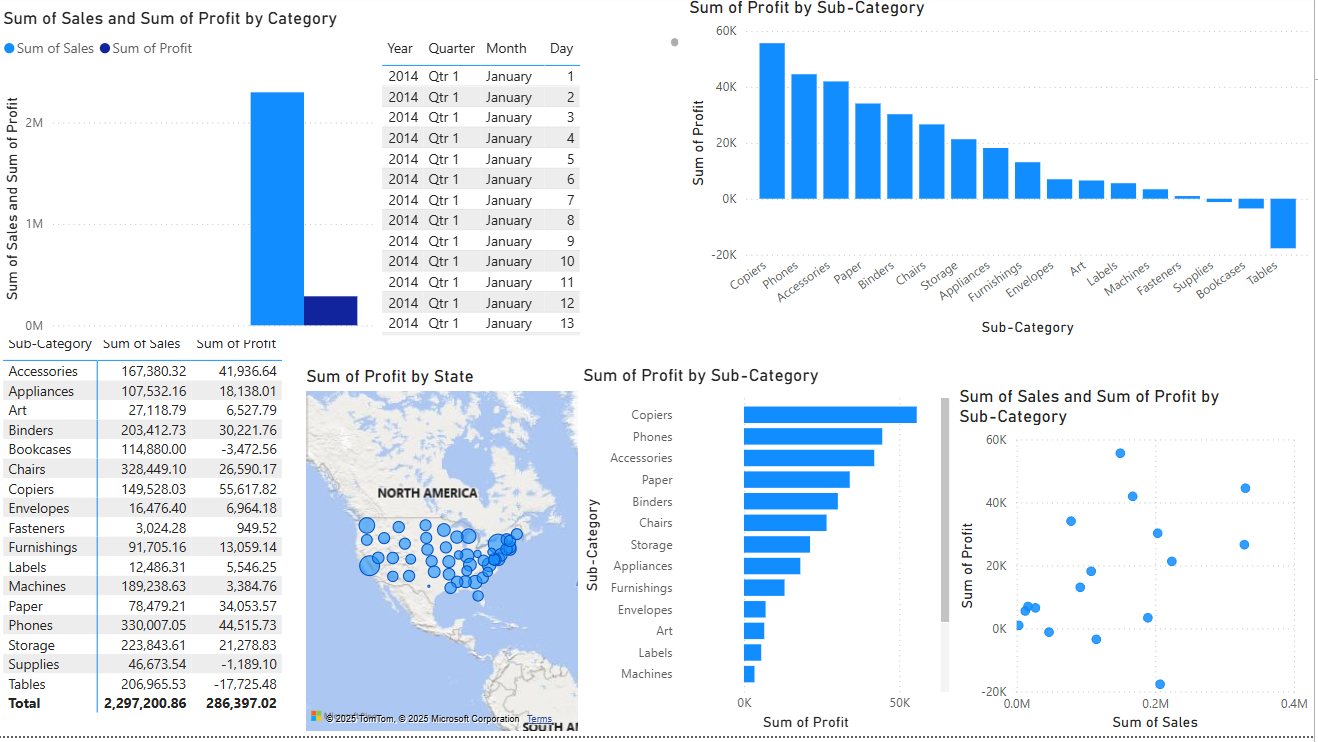

Layout of this report page (visuals, bound fields, positions):
{"tool":"powerbi","page":{"name":"Page 1","canvas":[1280,720],"ordinal":0},"visuals":[{"type":"map","fields":{"Category":["Orders.State"],"Size":["Sum(Orders.Profit)"]},"box":[278.2,359.9,290.8,359.9],"z":0},{"type":"clusteredColumnChart","fields":{"Y":["Sum(Orders.Profit)"],"Category":["Orders.Sub-Category"]},"box":[526.2,1,753.8,333.6],"z":1000},{"type":"scatterChart","fields":{"X":["Sum(Orders.Sales)"],"Y":["Sum(Orders.Profit)"],"Category":["Orders.Sub-Category"]},"box":[929.8,379.3,350.2,340.4],"z":2000},{"type":"pivotTable","fields":{"Values":["Sum(Orders.Sales)","Sum(Orders.Profit)"],"Rows":["Orders.Sub-Category"]},"box":[0,322.9,294.7,396.8],"z":3000},{"type":"lineClusteredColumnComboChart","title":"Sum of Sales and Sum of Profit  by Category","fields":{"Y":["Sum(Orders.Sales)","Sum(Orders.Profit)"]},"box":[0,0,552.5,322.9],"z":4000},{"type":"clusteredBarChart","fields":{"Category":["Orders.Sub-Category"],"Y":["Sum(Orders.Profit)"]},"box":[564.1,359.9,365.7,359.9],"z":4001}]}

Visuals, with their boxes in screenshot pixels (x1, y1, x2, y2), scaled from the page's 1280x720 canvas onto the 1318x742 screenshot:
map - Orders.State x Sum(Orders.Profit): x1=286 y1=371 x2=586 y2=741
clusteredColumnChart - Sum(Orders.Profit) x Orders.Sub-Category: x1=542 y1=1 x2=1317 y2=345
scatterChart - Sum(Orders.Sales) x Sum(Orders.Profit): x1=957 y1=391 x2=1317 y2=741
pivotTable - Sum(Orders.Sales) x Sum(Orders.Profit): x1=0 y1=333 x2=303 y2=741
"Sum of Sales and Sum of Profit  by Category" lineClusteredColumnComboChart: x1=0 y1=0 x2=569 y2=333
clusteredBarChart - Orders.Sub-Category x Sum(Orders.Profit): x1=581 y1=371 x2=957 y2=741
